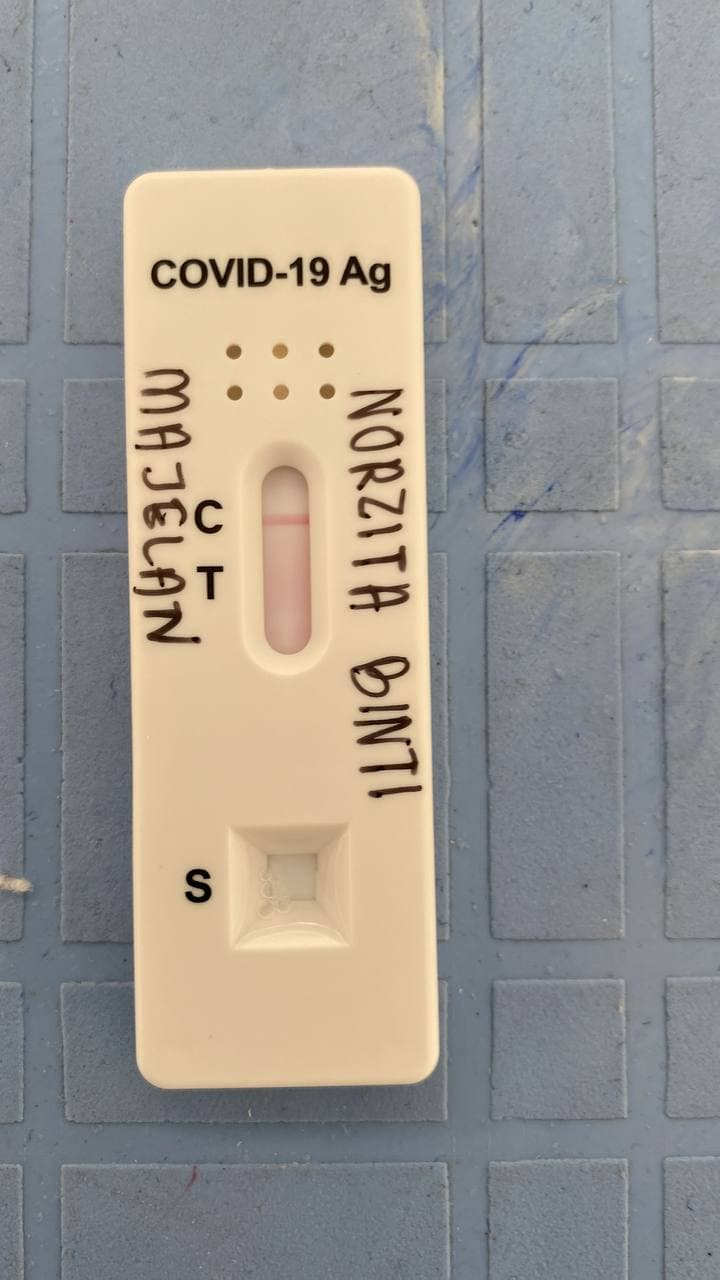rapid_test: (129, 166, 430, 1093)
